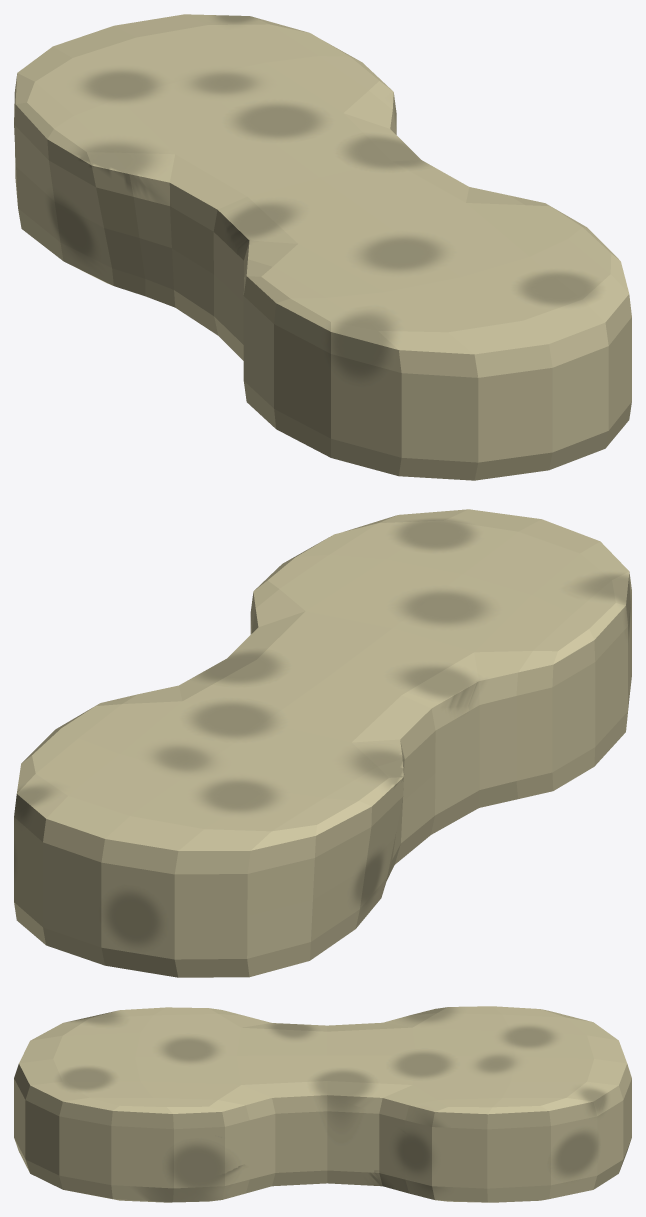
File: sponge.fbx
3 renders of one model, top to bottom at view 1: azimuth 30°, elevation 25°; view 2: azimuth 150°, elevation 25°; view 3: azimuth 270°, elevation 25°, orthographic. The views are drawn at different scales.
Visible parts, largest first — view 1: Cube; view 2: Cube; view 3: Cube.
Boxes of the visible parts, x1,y1,x2,y2 form: Cube: (14,14,631,480); Cube: (14,509,631,977); Cube: (14,1006,631,1202).
Bounding box in the file's own units: 410 × 173 × 992.
